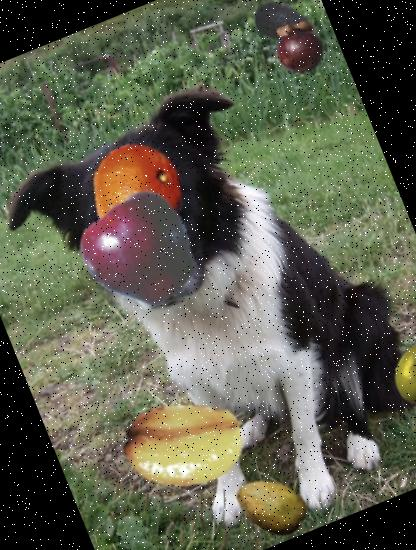Apple: (68, 178, 216, 326)
Avocado: (242, 0, 319, 60)
Carambula: (102, 360, 264, 524)
Clementine: (71, 128, 206, 262)
Mangostan: (263, 9, 337, 83)
Papaya: (222, 456, 320, 550)
Pomelo: (385, 331, 416, 414)
